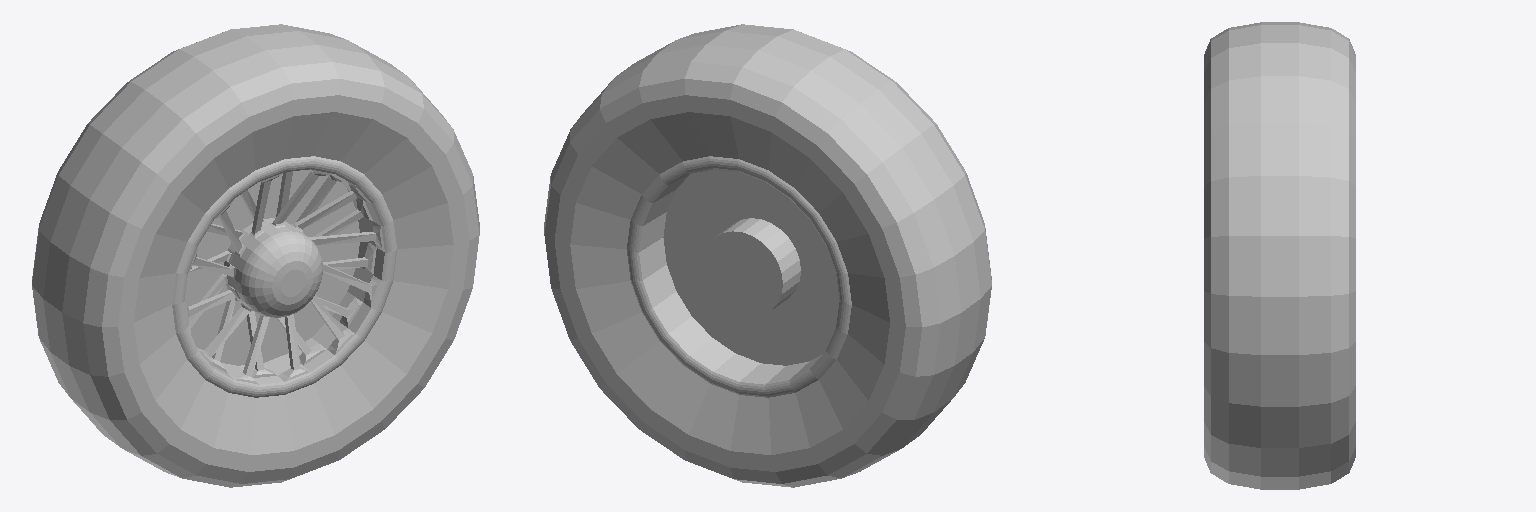
Rendered from WheelVer4.obj.
The picture shows the model from 3 angles: view 1: azimuth 30°, elevation 25°; view 2: azimuth 150°, elevation 25°; view 3: azimuth 270°, elevation 25°; orthographic projection.
Parts seen in each view (by area): view 1: WheelContactMesh nurbsCircle7, nurbsCircle7 WheelWall2Mesh, loftedSurface6, pCube2, pCube1, pCube9, pCube10, pCube11, pCube8, pCube3, pCube12, pCube20 (+5 smaller); view 2: WheelContactMesh nurbsCircle7, nurbsCircle7 WheelWall1Mesh, loftedSurface6; view 3: WheelContactMesh nurbsCircle7.
Boxes of the visible parts, <box> form: WheelContactMesh nurbsCircle7: <box>32,24,479,487</box>; nurbsCircle7 WheelWall2Mesh: <box>134,112,453,454</box>; loftedSurface6: <box>172,156,396,397</box>; pCube2: <box>289,182,370,232</box>; pCube1: <box>309,222,384,251</box>; pCube9: <box>229,315,269,384</box>; pCube10: <box>278,314,309,381</box>; pCube11: <box>310,294,354,354</box>; pCube8: <box>197,303,251,367</box>; pCube3: <box>270,169,331,227</box>; pCube12: <box>323,264,380,307</box>; pCube20: <box>323,243,376,274</box>; WheelContactMesh nurbsCircle7: <box>544,24,991,487</box>; nurbsCircle7 WheelWall1Mesh: <box>570,112,889,454</box>; loftedSurface6: <box>627,156,851,397</box>; WheelContactMesh nurbsCircle7: <box>1204,22,1355,489</box>.
Size of the model in its own units: 3.88 by 3.88 by 1.25.